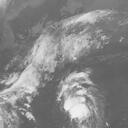cyclone: (55, 69, 100, 125)
